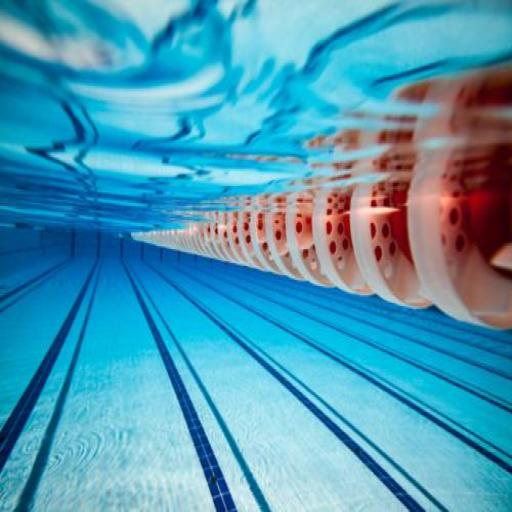swimming: (128, 52, 511, 335)
